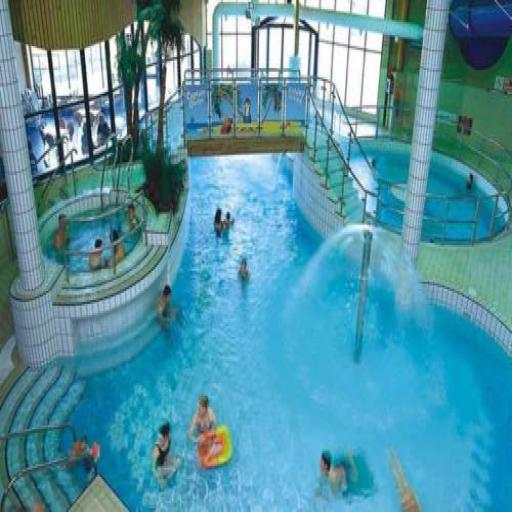swimming: (313, 444, 375, 504), (148, 418, 182, 492), (154, 280, 180, 333), (49, 210, 72, 258), (104, 224, 126, 270), (211, 203, 234, 241), (86, 234, 105, 274), (234, 254, 252, 289), (123, 199, 140, 236)
